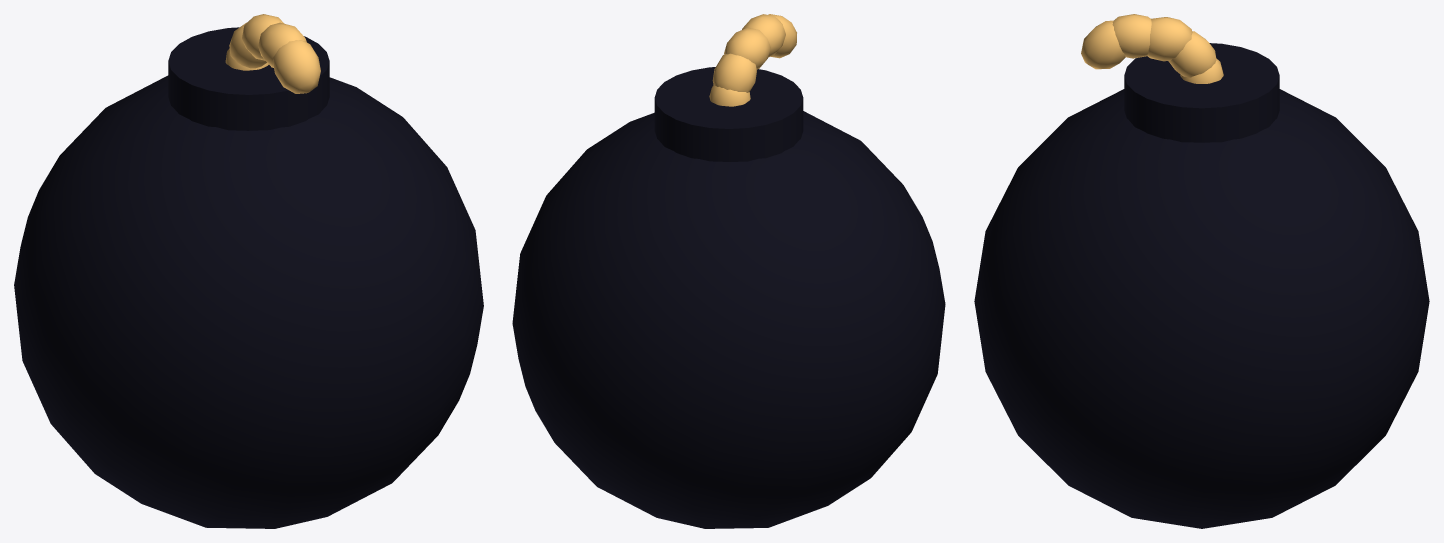
Rendered from bomb.obj.
The picture shows the model from 3 angles, left to right: view 1: azimuth 30°, elevation 25°; view 2: azimuth 150°, elevation 25°; view 3: azimuth 270°, elevation 25°; orthographic projection. The views are drawn at different scales.
Parts seen in each view (by area): view 1: Icosphere; view 2: Icosphere; view 3: Icosphere.
Part boxes in pixels (x1,y1,x2,y2): Icosphere: (14, 14, 483, 528); Icosphere: (512, 14, 945, 528); Icosphere: (974, 14, 1429, 528).
Size of the model in its own units: 4 by 4.77 by 4.
